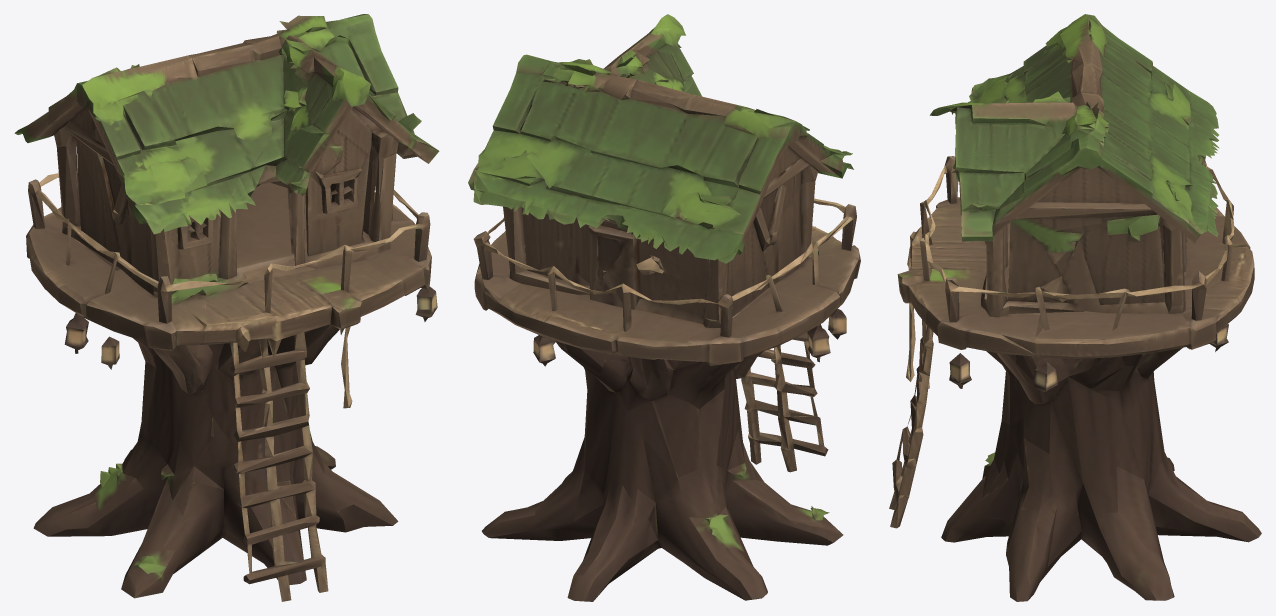
File: tree_platform.glb
3 renders of one model, left to right at view 1: azimuth 30°, elevation 25°; view 2: azimuth 150°, elevation 25°; view 3: azimuth 270°, elevation 25°, orthographic. The views are drawn at different scales.
Parts seen in each view (by area): view 1: tree_platform; view 2: tree_platform; view 3: tree_platform.
Part boxes in pixels (<box>): tree_platform: <box>14,14,439,601</box>; tree_platform: <box>468,14,860,601</box>; tree_platform: <box>889,14,1261,601</box>.
Size of the model in its own units: 7.21 by 10 by 7.22.
1 material, 1 textured.
